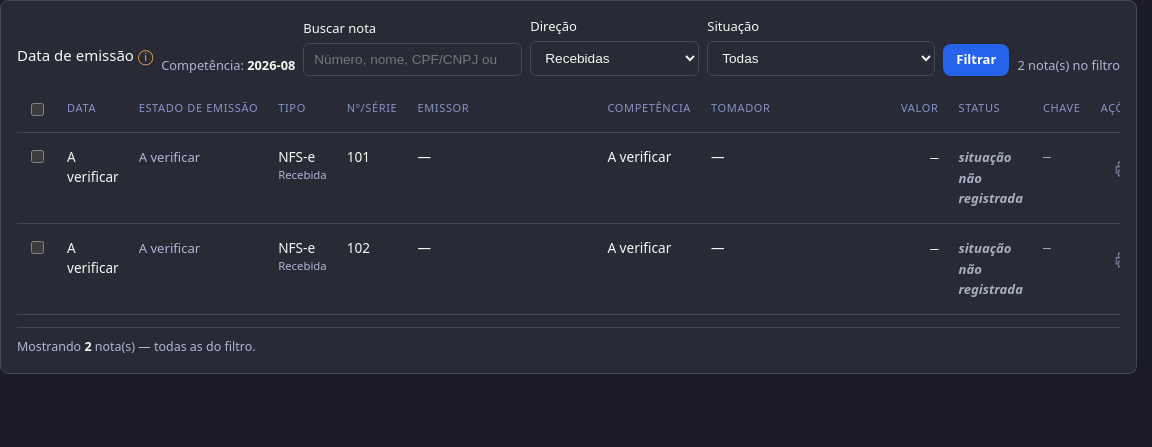
Test: expõe falhas parciais do lote
What coordinates should you click on to do the following:
click the checkbox named "Selecionar todas as notas desta página"
I would click on:
 (38, 109)
Its box is [31,102,44,116].
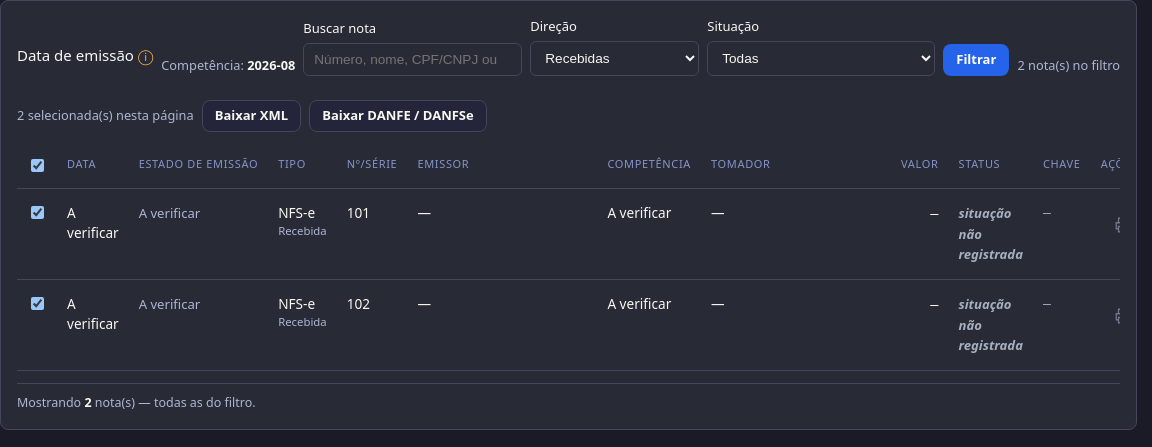
What coordinates should you click on to do the following:
click the button "Baixar XML"
I would click on:
 (251, 116)
Its box is [202,100,301,132].
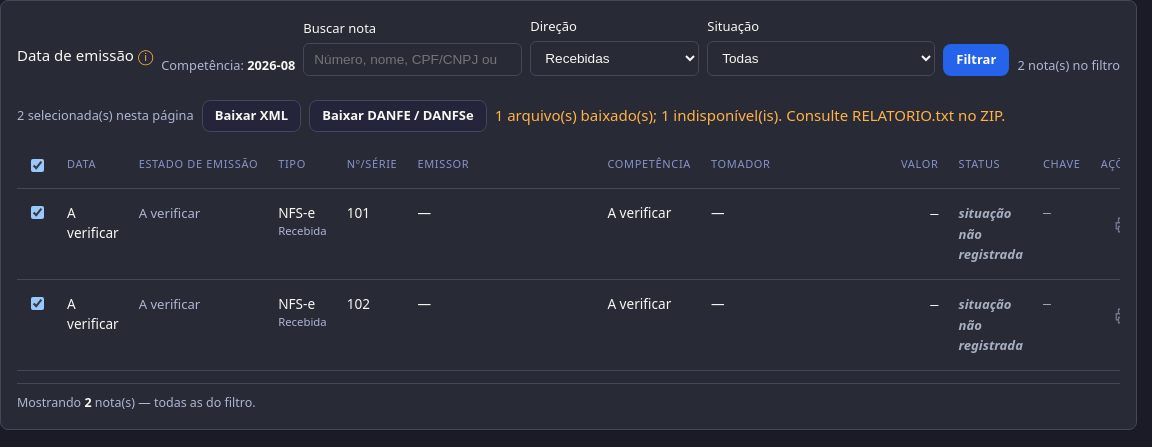
Now the message shows "1 indisponível", box [495,105,1005,125]
